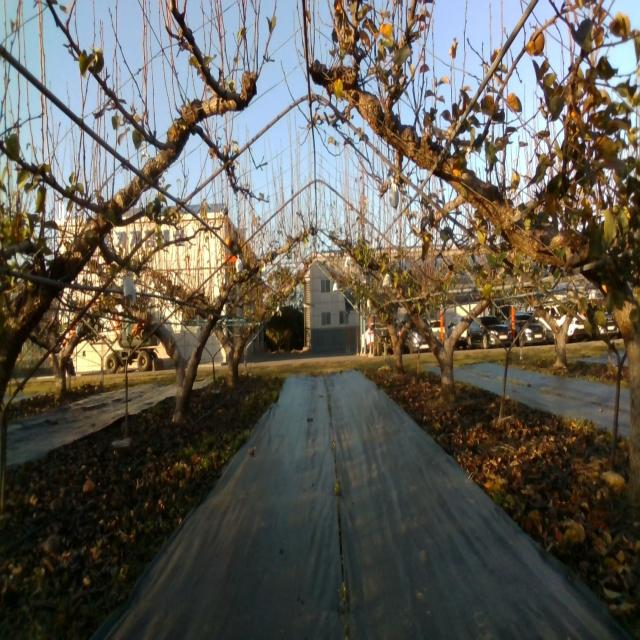pearbags: (388, 178, 399, 214), (124, 276, 138, 303)
